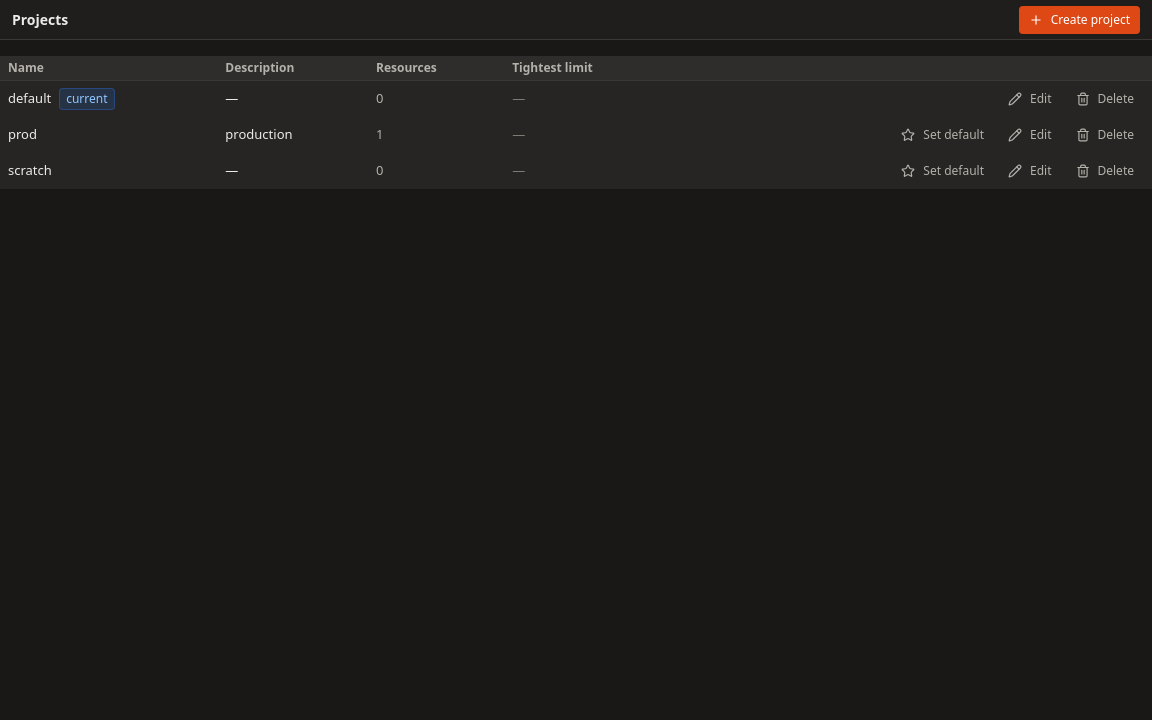
ProjectsPage › opens the editor from the row action
Expected: the text "prod" is shown, [8,125,37,145]
What coordinates should you click on to do the following:
click the button with test id "project-edit-prod"
I would click on:
 (1030, 135)
Its box is [998,121,1062,149].
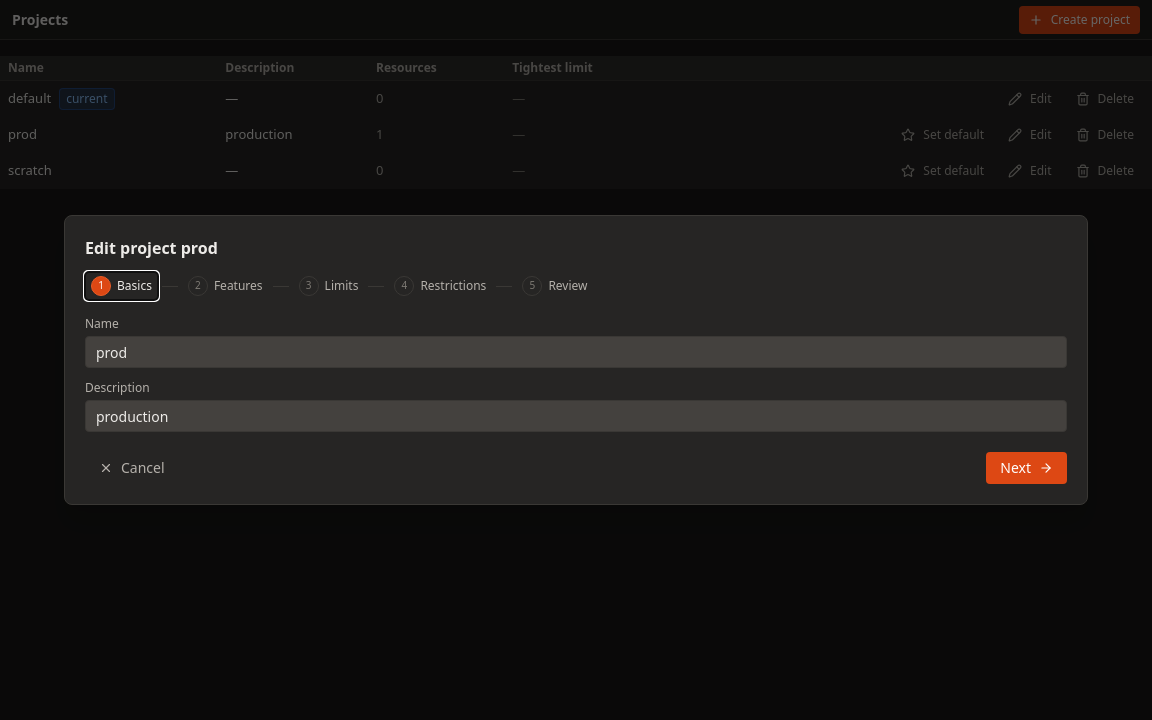
Expected: the heading "Edit project prod" is shown, [85,237,218,259]
Expected: the button with test id "step-tab-review" is shown, [516,272,594,300]
